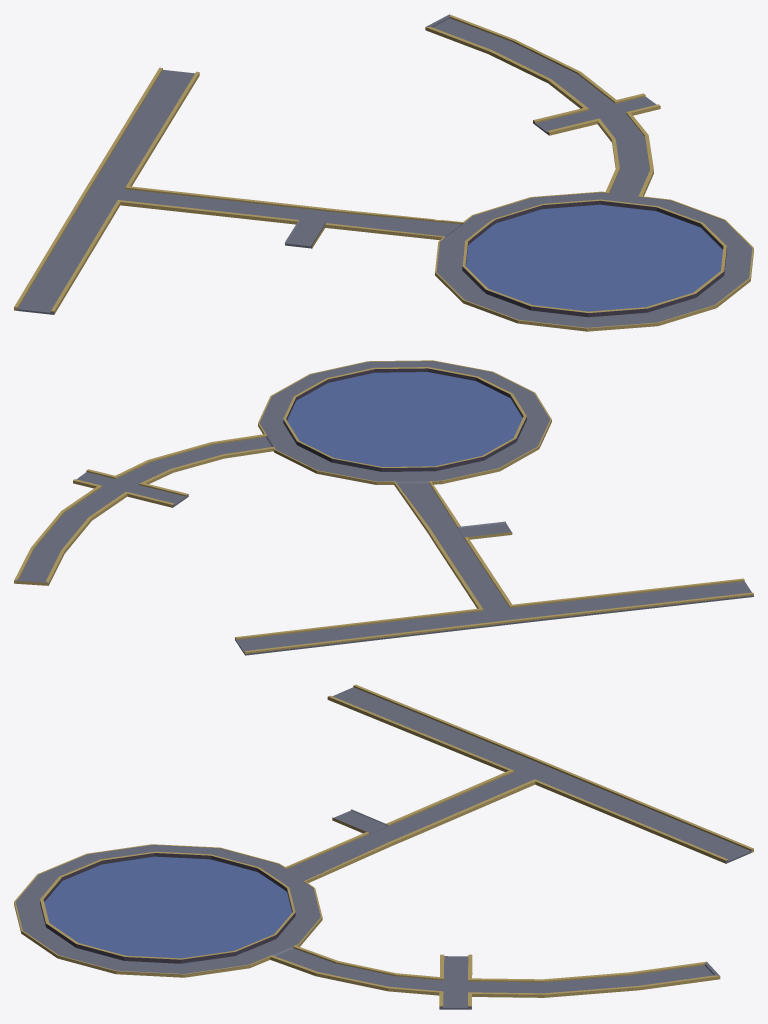
File: Path.fbx
3 renders of one model, top to bottom at view 1: azimuth 30°, elevation 25°; view 2: azimuth 150°, elevation 25°; view 3: azimuth 270°, elevation 25°, orthographic. The views are drawn at different scales.
Parts seen in each view (by area): view 1: Cube.001; view 2: Cube.001; view 3: Cube.001.
Boxes of the visible parts, x1,y1,x2,y2 form: Cube.001: [14, 14, 753, 331]; Cube.001: [14, 360, 753, 655]; Cube.001: [14, 684, 753, 1009].
Bounding box in the file's own units: 13233 × 153 × 12819.
